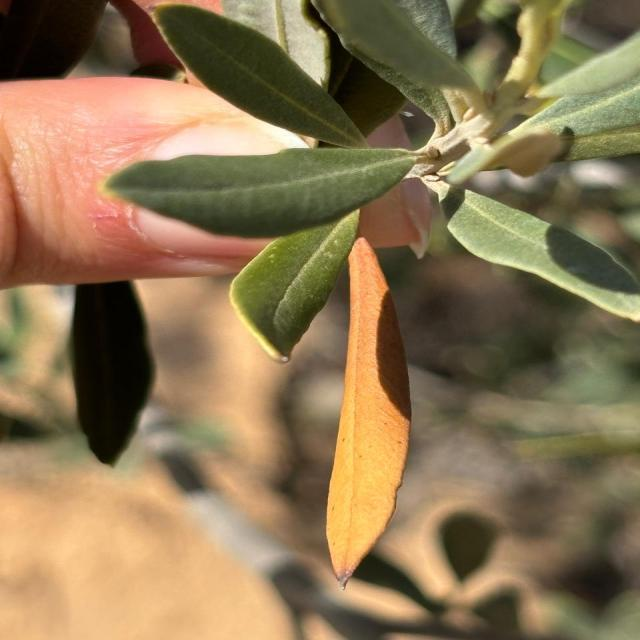OlivePeacockSpot: (326, 238, 411, 588)
